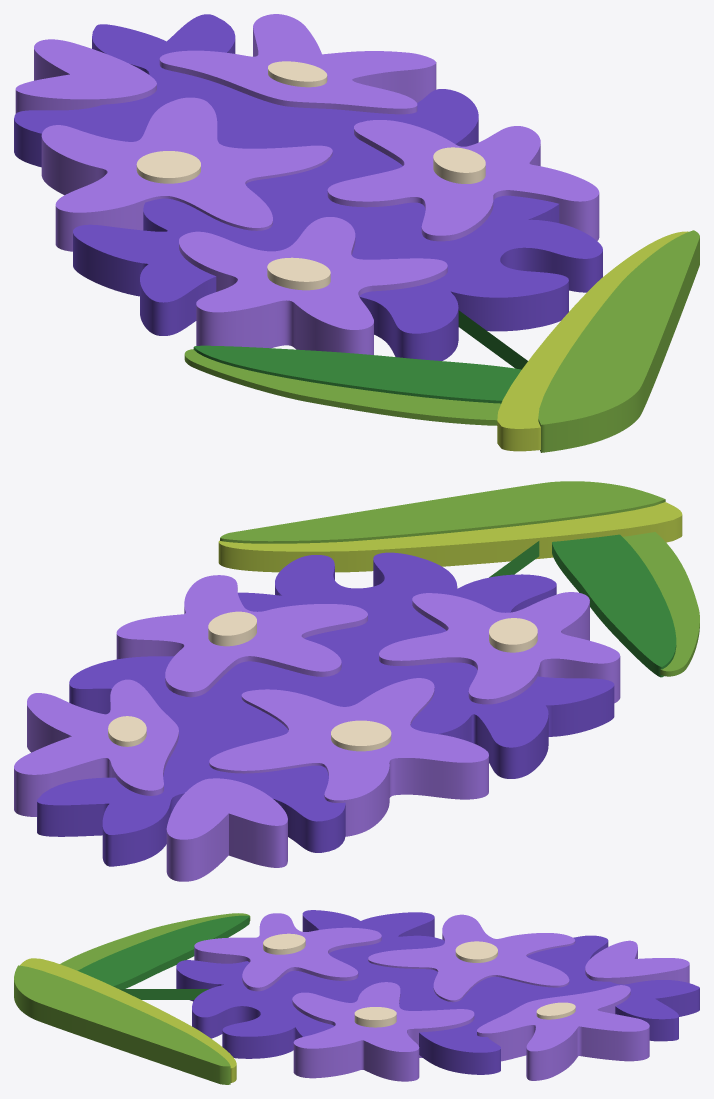
File: emoji_u1fabb.glb
The picture shows the model from 3 angles, top to bottom: view 1: azimuth 30°, elevation 25°; view 2: azimuth 150°, elevation 25°; view 3: azimuth 270°, elevation 25°; orthographic projection. The views are drawn at different scales.
Parts seen in each view (by area): view 1: emoji_u1fabb; view 2: emoji_u1fabb; view 3: emoji_u1fabb.
Part boxes in pixels (x1,y1,x2,y2): emoji_u1fabb: (14, 14, 699, 452); emoji_u1fabb: (14, 481, 699, 881); emoji_u1fabb: (14, 910, 699, 1084).
Size of the model in its own units: 0.0187 by 0.0024 by 0.0337.
